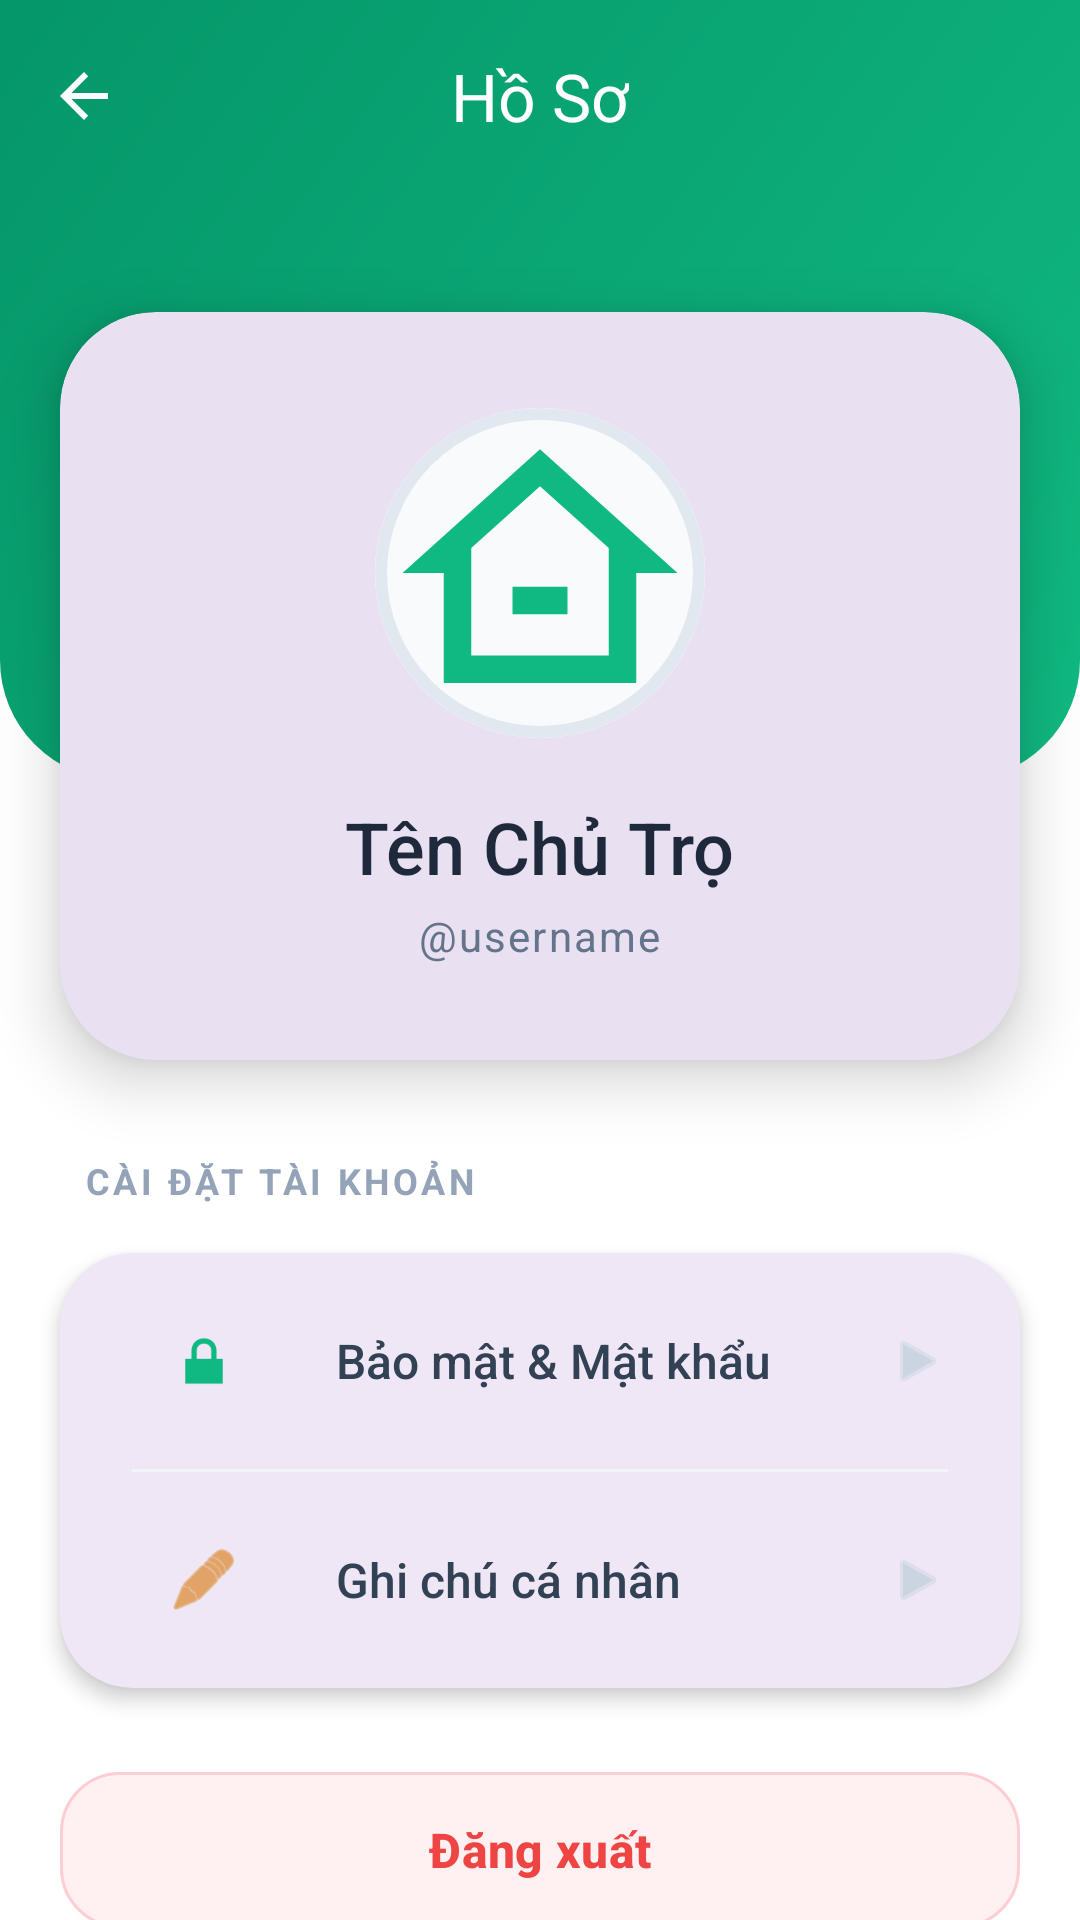

Icon bounding boxes for this 1080px×1920px phone screenshot, format (x1, y1, x2, y2):
edit: (173, 1549, 234, 1610)
lock: (185, 1338, 223, 1384)
play: (903, 1344, 933, 1378), (903, 1563, 933, 1597)
